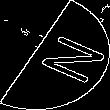N_NW: (14, 25, 96, 85)
